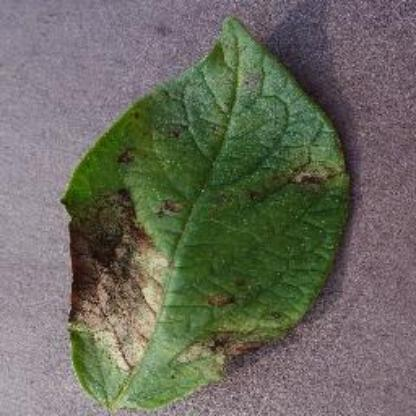Late-Blight: (0, 10, 390, 415)
